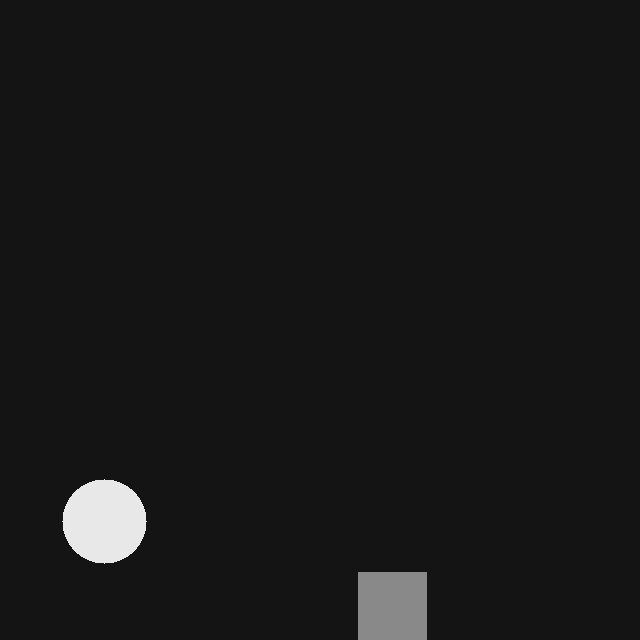circle: (62, 479, 146, 563)
square: (358, 572, 426, 640)
